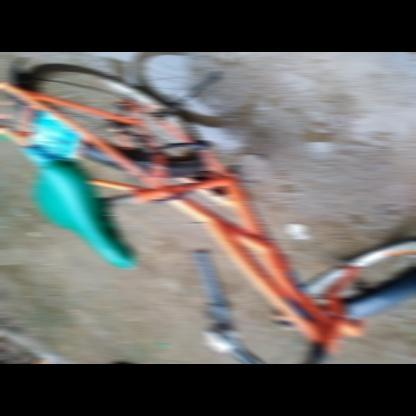Bicycle: (0, 46, 414, 366)
